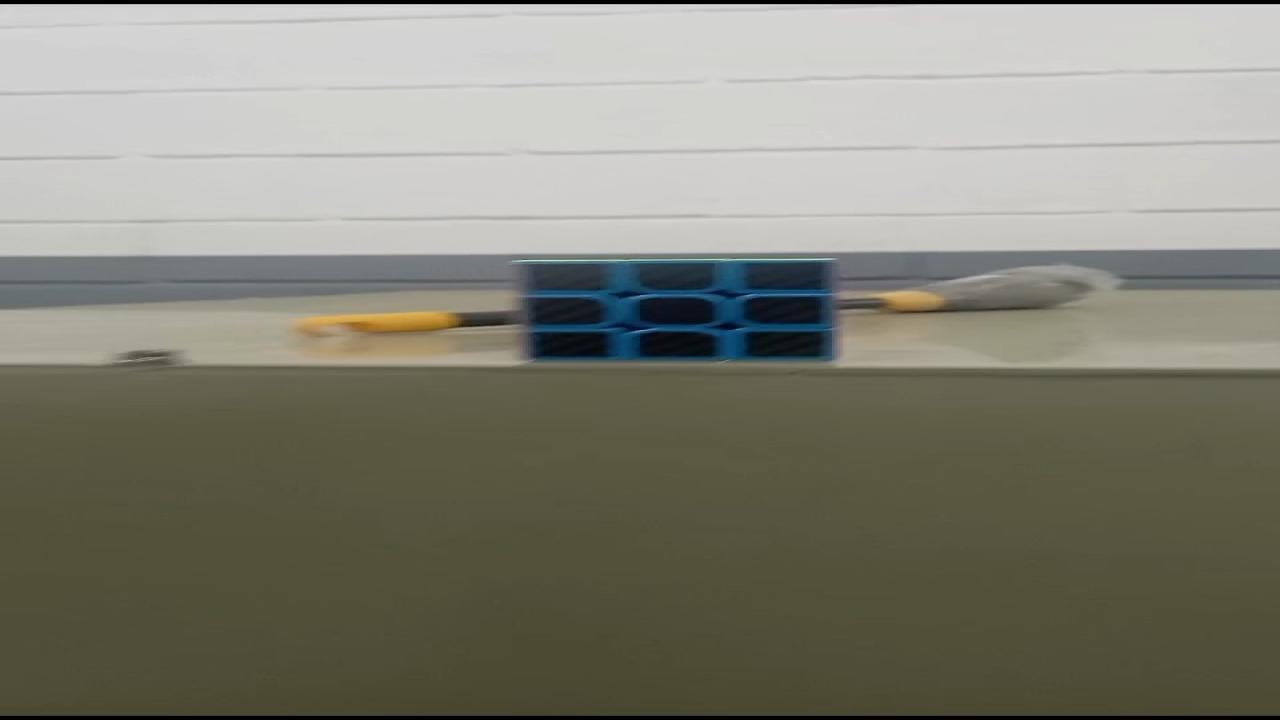Cube: (504, 256, 840, 362)
